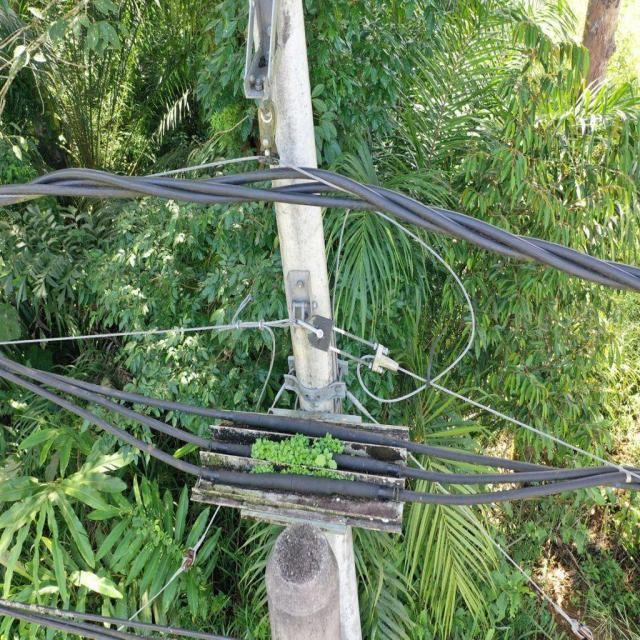critical vegetation: (241, 427, 352, 482)
